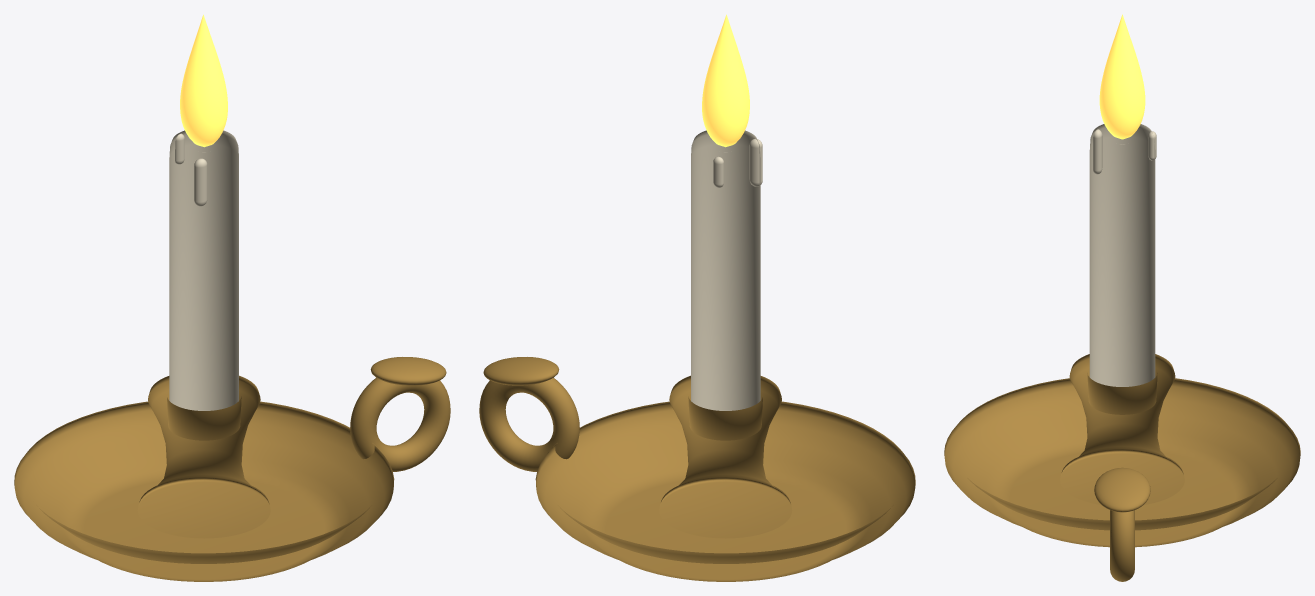
The model's file is candle.glb.
3 views of the same model, side by side, from view 1: azimuth 30°, elevation 25°; view 2: azimuth 150°, elevation 25°; view 3: azimuth 270°, elevation 25° (orthographic). The views are drawn at different scales.
Parts seen in each view (by area): view 1: holder, candle, flame; view 2: holder, candle, flame; view 3: holder, candle, flame.
Part boxes in pixels (bbox=[...]): holder: bbox=[14, 357, 450, 581]; candle: bbox=[169, 130, 238, 410]; flame: bbox=[180, 14, 227, 147]; holder: bbox=[479, 357, 915, 581]; candle: bbox=[691, 130, 762, 410]; flame: bbox=[702, 14, 749, 147]; holder: bbox=[944, 354, 1300, 581]; candle: bbox=[1089, 124, 1156, 386]; flame: bbox=[1099, 14, 1145, 139].
Bounding box in the file's own units: 0.1492 × 0.1794 × 0.12.
